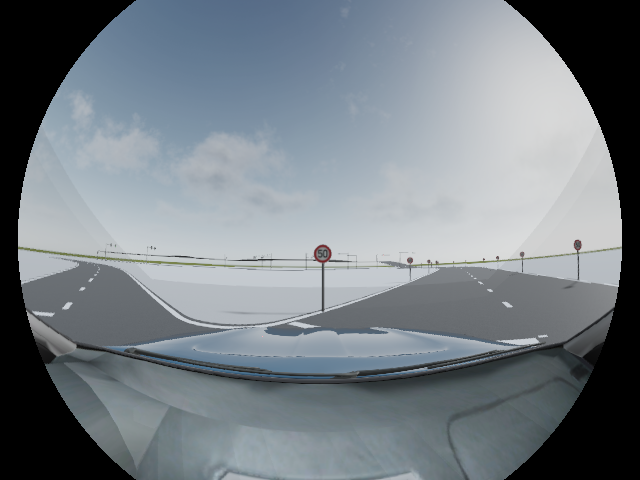Speed Limit 50: (314, 244, 332, 263)
